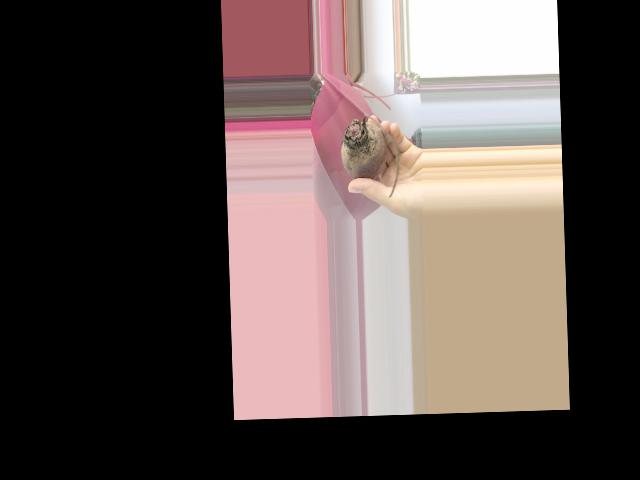beet: (340, 112, 400, 199)
